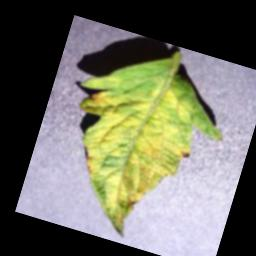Leaf_Mold: (41, 34, 241, 256)
